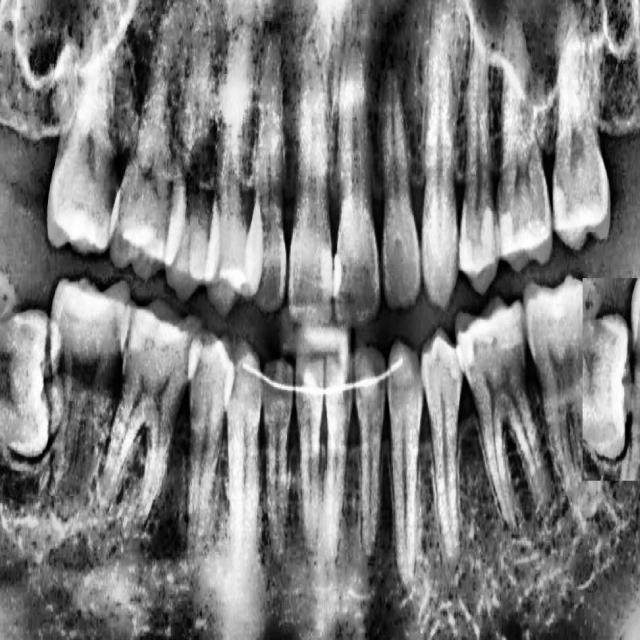Impacted Tooth: (0, 256, 79, 497), (583, 278, 640, 481)
